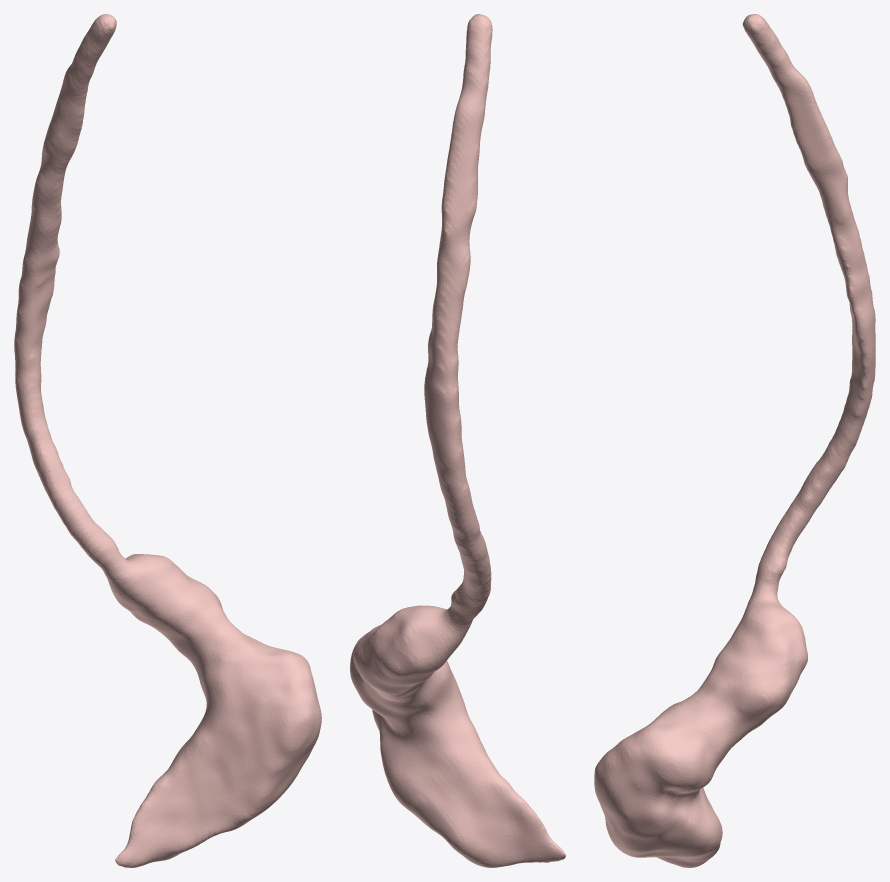
Rendered from eus_b_lumen.glb.
The picture shows the model from 3 angles, left to right: view 1: azimuth 30°, elevation 25°; view 2: azimuth 150°, elevation 25°; view 3: azimuth 270°, elevation 25°; orthographic projection. The views are drawn at different scales.
Parts seen in each view (by area): view 1: gi_lumen; view 2: gi_lumen; view 3: gi_lumen.
Part boxes in pixels (<box>): gi_lumen: <box>14,14,321,867</box>; gi_lumen: <box>350,14,565,867</box>; gi_lumen: <box>594,14,875,867</box>.
Size of the model in its own units: 87.01 by 346 by 105.
